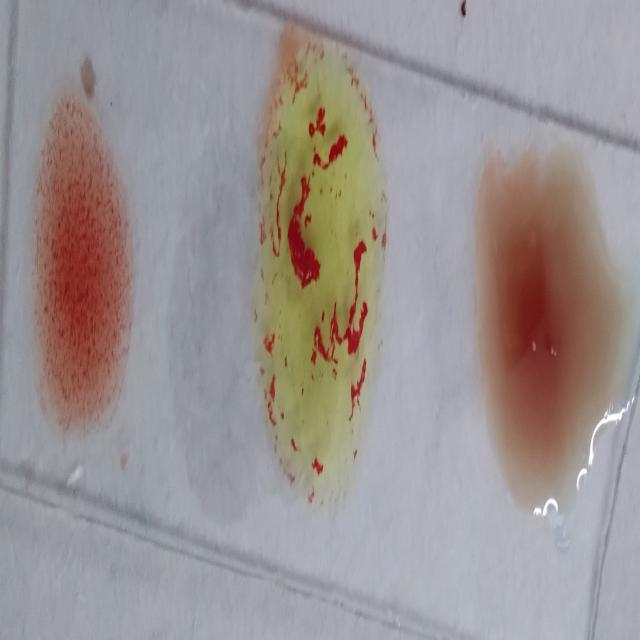B: (258, 27, 381, 522)
D: (33, 90, 129, 437)
